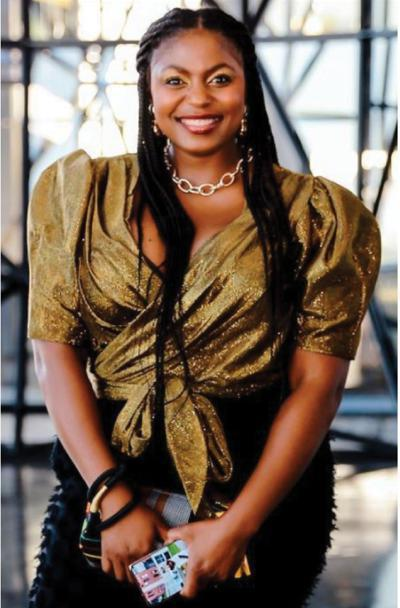Sober: (147, 44, 243, 154)
